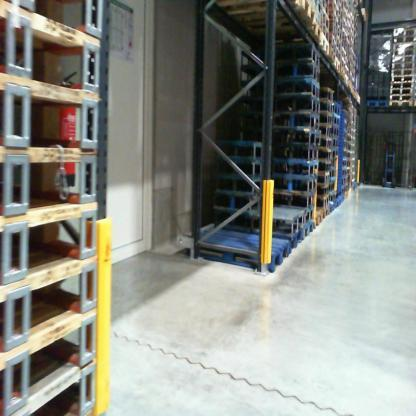pallets: (177, 0, 416, 283), (0, 1, 109, 412), (386, 23, 415, 108)
